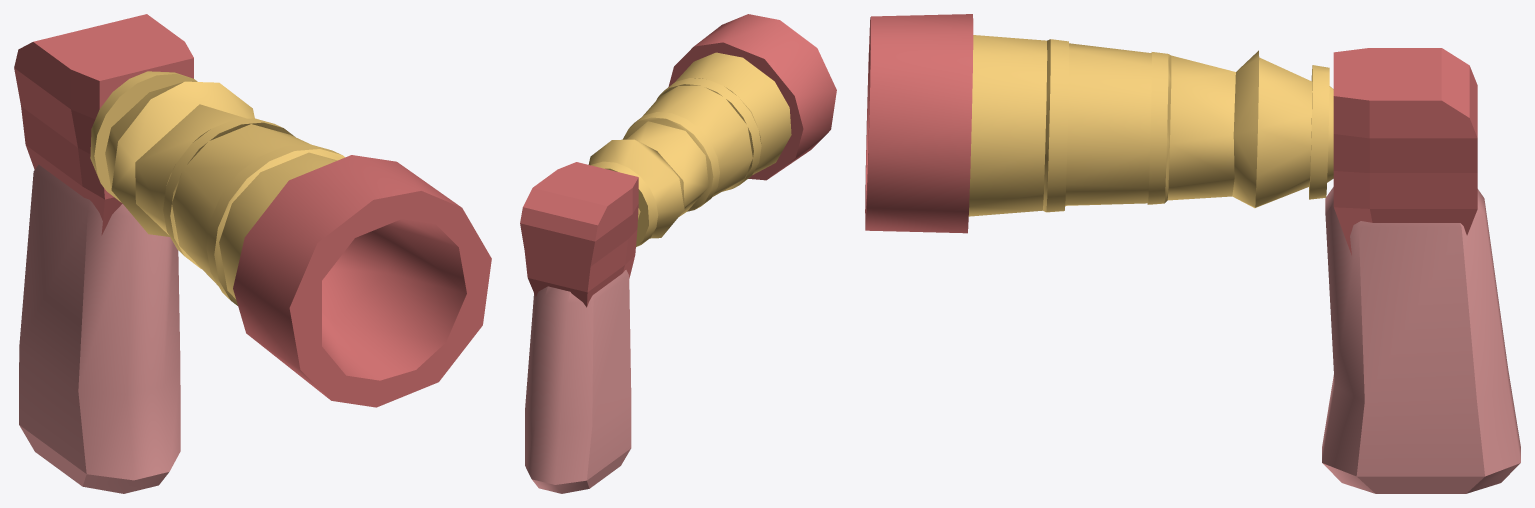
File: flesh gun.fbx
3 views of the same model, side by side, from view 1: azimuth 30°, elevation 25°; view 2: azimuth 150°, elevation 25°; view 3: azimuth 270°, elevation 25° (orthographic). The views are drawn at different scales.
Parts seen in each view (by area): view 1: pCylinder3, pCube91, pCube92; view 2: pCylinder3, pCube91, pCube92; view 3: pCylinder3, pCube91, pCube92.
Part boxes in pixels (x1,y1,x2,y2): pCylinder3: (90, 71, 491, 407); pCube91: (19, 164, 180, 493); pCube92: (14, 14, 193, 235); pCylinder3: (588, 14, 836, 246); pCube91: (525, 270, 631, 493); pCube92: (520, 162, 638, 307); pCylinder3: (865, 14, 1333, 233); pCube91: (1322, 187, 1520, 493); pCube92: (1333, 48, 1477, 255).
Size of the model in its own units: 1.36 by 2.98 by 3.92.
